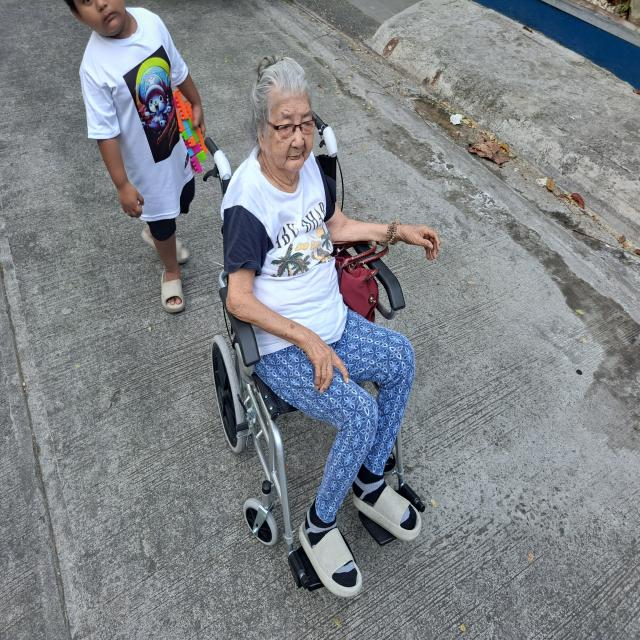wheelchairs: (204, 103, 443, 605)
